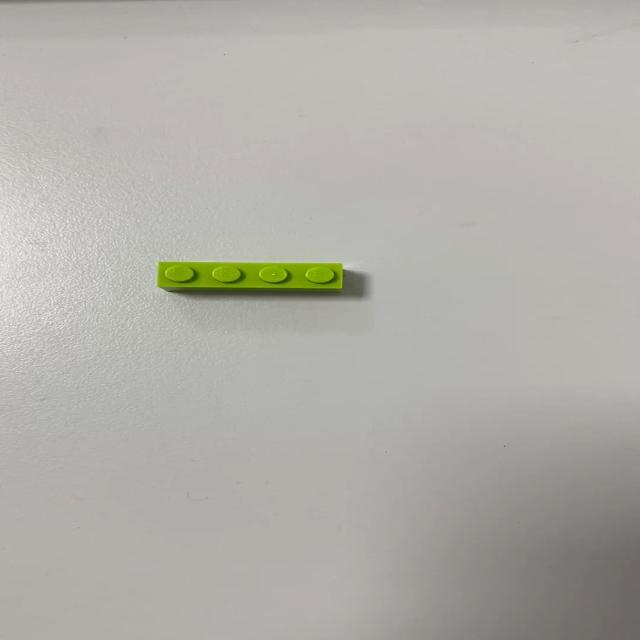C4x1x1: (155, 260, 344, 294)
